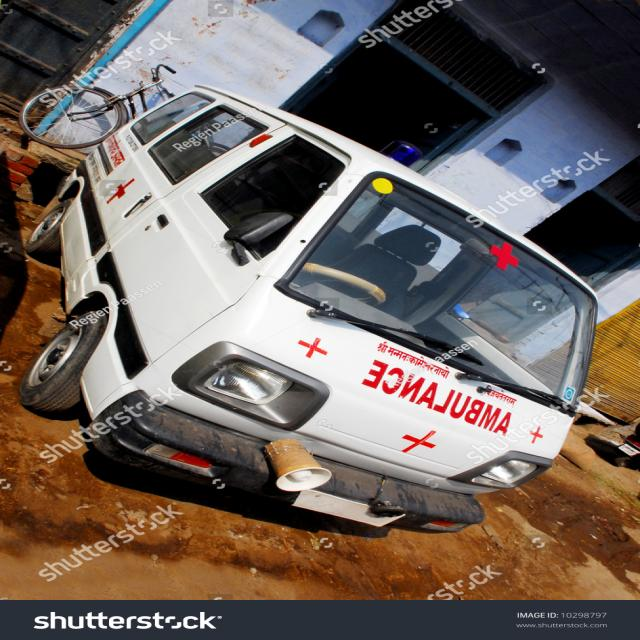ambulance: (30, 83, 601, 541)
